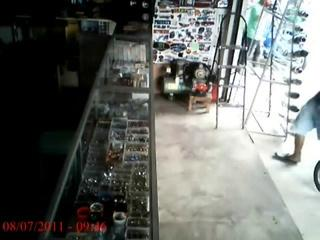Normal: (273, 92, 320, 165)
